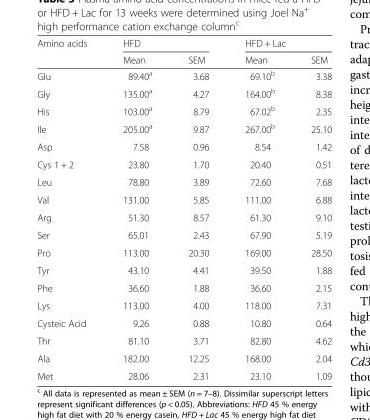table: (36, 37, 331, 381)
table column: (36, 37, 104, 381), (226, 37, 292, 381), (104, 37, 169, 381), (169, 37, 226, 381), (292, 37, 331, 381)
table column header: (36, 37, 331, 66)
table row: (36, 83, 331, 101), (36, 101, 331, 119), (36, 119, 331, 137), (36, 137, 331, 155), (36, 172, 331, 190), (36, 190, 331, 208), (36, 225, 331, 243), (36, 243, 331, 261), (36, 278, 331, 296), (36, 296, 331, 314), (36, 331, 331, 349), (36, 66, 331, 83), (36, 155, 331, 172), (36, 208, 331, 225), (36, 261, 331, 278), (36, 314, 331, 331), (36, 349, 331, 366), (36, 51, 331, 66), (36, 366, 331, 381), (36, 37, 331, 51)
table spanning cell: (36, 37, 104, 66), (104, 37, 226, 51), (226, 37, 331, 51)
